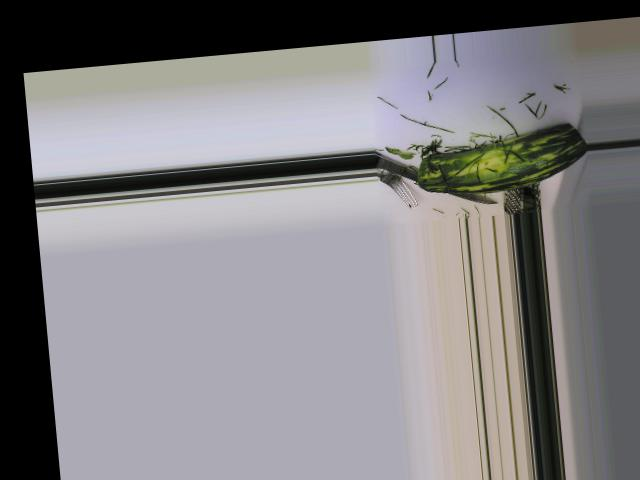cucumber: (412, 121, 589, 198)
